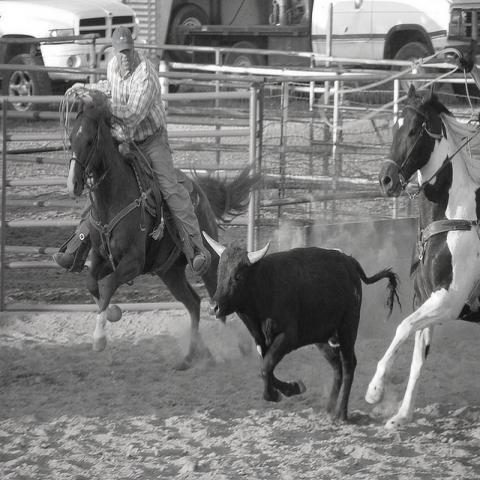car: (0, 0, 141, 120)
truck: (310, 1, 480, 102), (1, 0, 139, 122), (114, 1, 314, 77)
